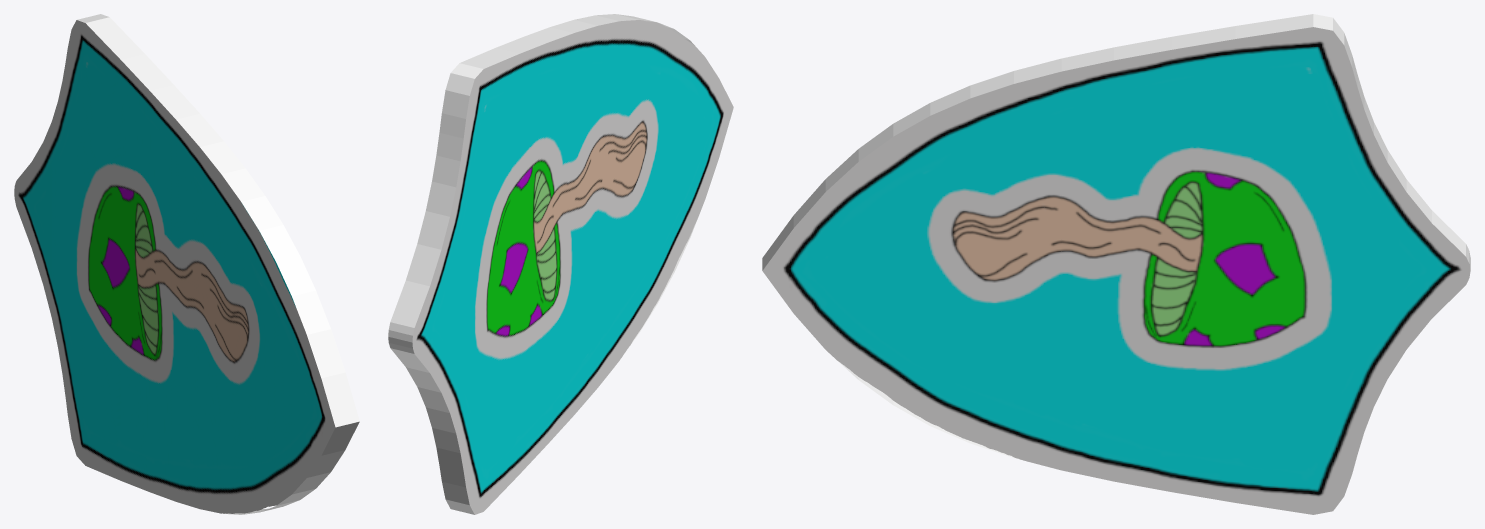
File: Mushroom Shield.fbx
3 views of the same model, side by side, from view 1: azimuth 30°, elevation 25°; view 2: azimuth 150°, elevation 25°; view 3: azimuth 270°, elevation 25° (orthographic). The views are drawn at different scales.
Parts seen in each view (by area): view 1: MS_Mesh; view 2: MS_Mesh; view 3: MS_Mesh.
Part boxes in pixels (left/top/right/bottom): MS_Mesh: left=14, top=14, right=359, bottom=514; MS_Mesh: left=388, top=14, right=733, bottom=514; MS_Mesh: left=762, top=14, right=1470, bottom=514.
Bounding box in the file's own units: 0.02 × 0.4584 × 0.3485.
